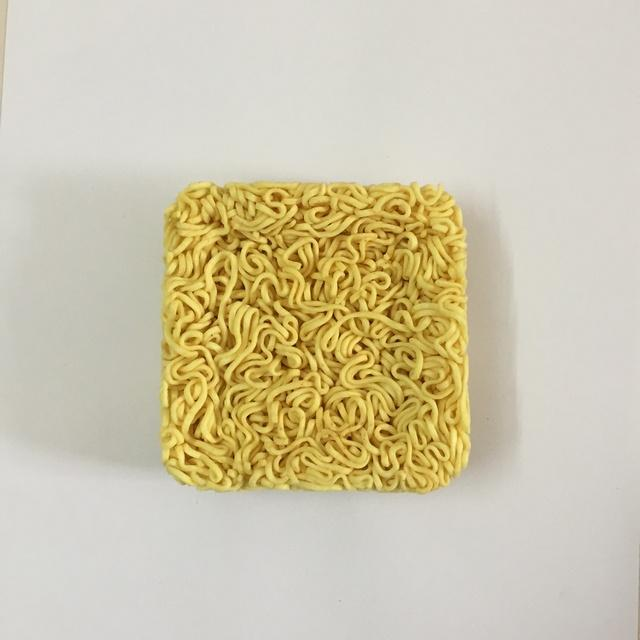noodles: (146, 169, 481, 505)
